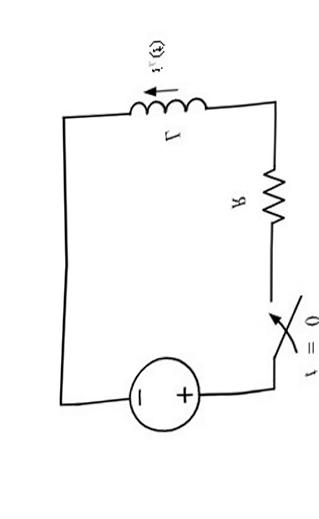Battery: (107, 339, 223, 453)
